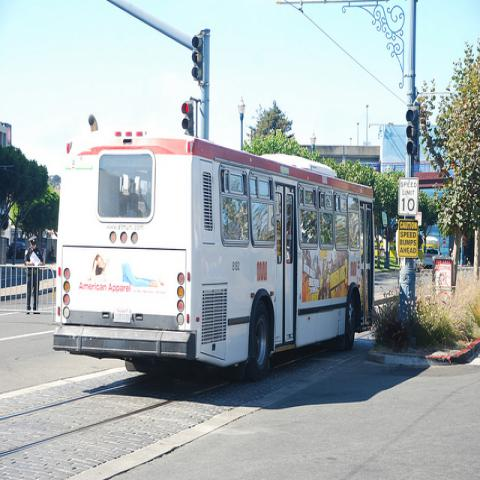bus: (53, 132, 374, 377)
